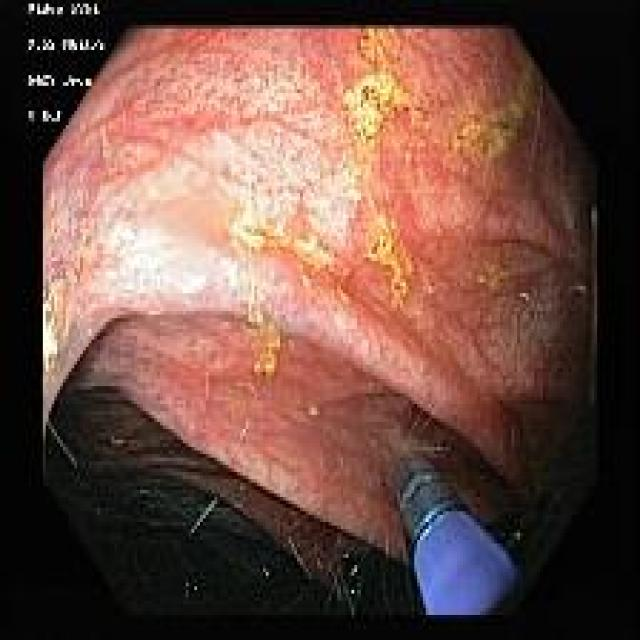ulcerative-colitis: (45, 28, 594, 558)
